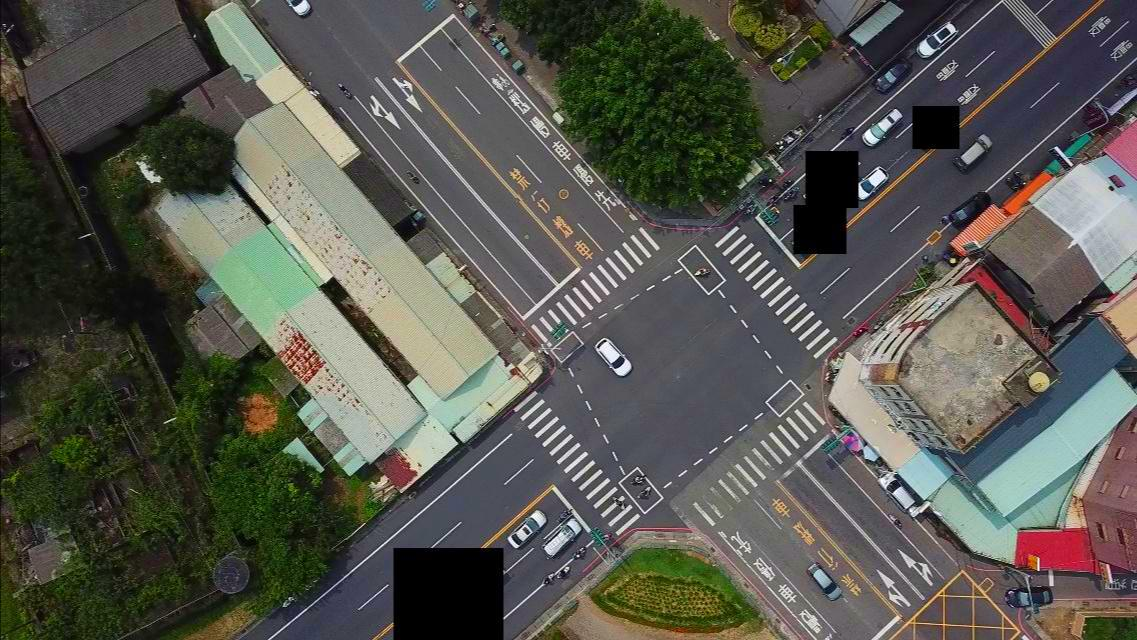vehicle: (507, 508, 547, 549), (541, 518, 581, 559), (861, 108, 903, 147), (453, 599, 494, 638), (917, 21, 957, 59), (951, 191, 993, 227), (877, 472, 916, 510), (954, 133, 992, 171), (595, 335, 630, 376), (875, 55, 912, 91), (851, 166, 889, 201), (1002, 585, 1053, 609), (808, 562, 840, 599), (289, 1, 313, 20)
